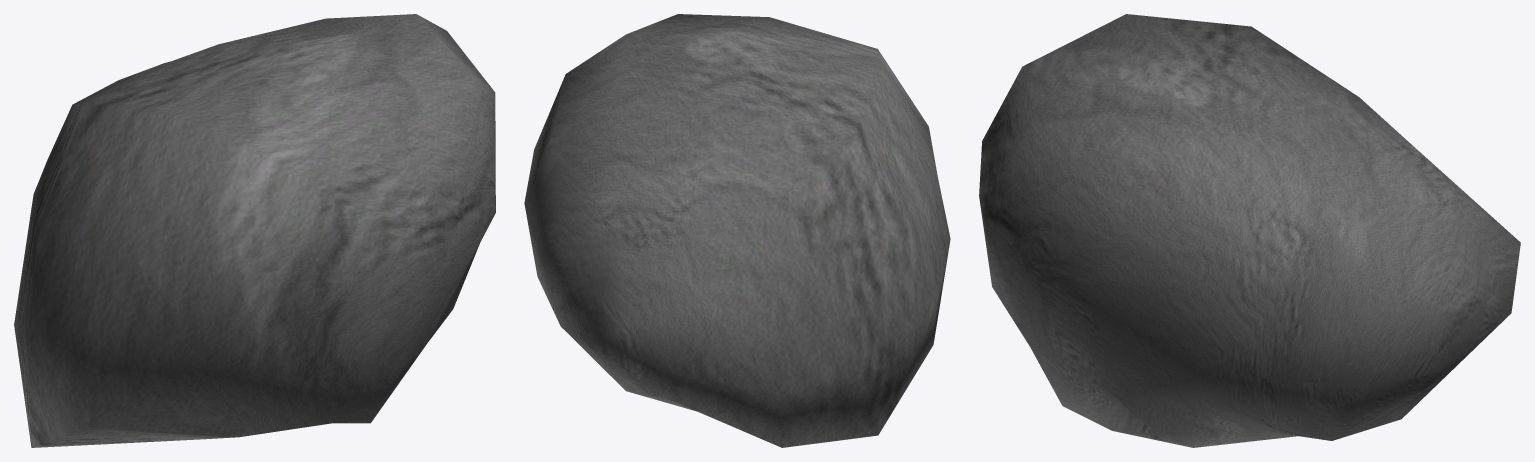
The model's file is StoneShape15.dae.
The picture shows the model from 3 angles, left to right: view 1: azimuth 30°, elevation 25°; view 2: azimuth 150°, elevation 25°; view 3: azimuth 270°, elevation 25°; orthographic projection. The views are drawn at different scales.
Parts seen in each view (by area): view 1: Stone15; view 2: Stone15; view 3: Stone15.
Boxes of the visible parts, bbox=[...] form: Stone15: bbox=[14, 14, 495, 447]; Stone15: bbox=[524, 14, 950, 447]; Stone15: bbox=[979, 14, 1520, 447].
Size of the model in its own units: 12.8 by 10.72 by 13.48.
